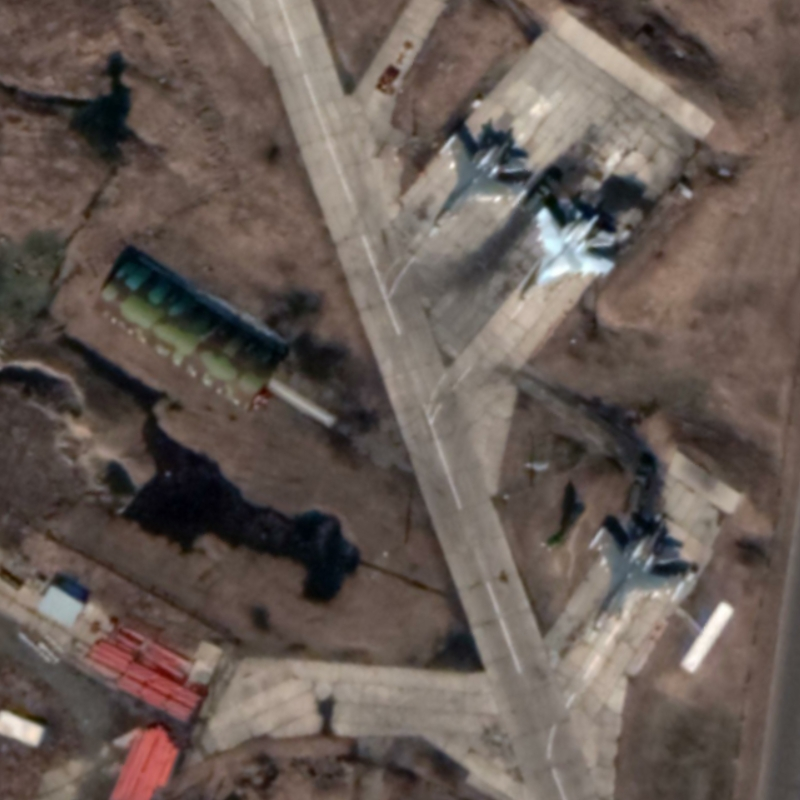A1: (582, 525, 690, 645), (424, 132, 530, 244), (514, 204, 616, 315)
